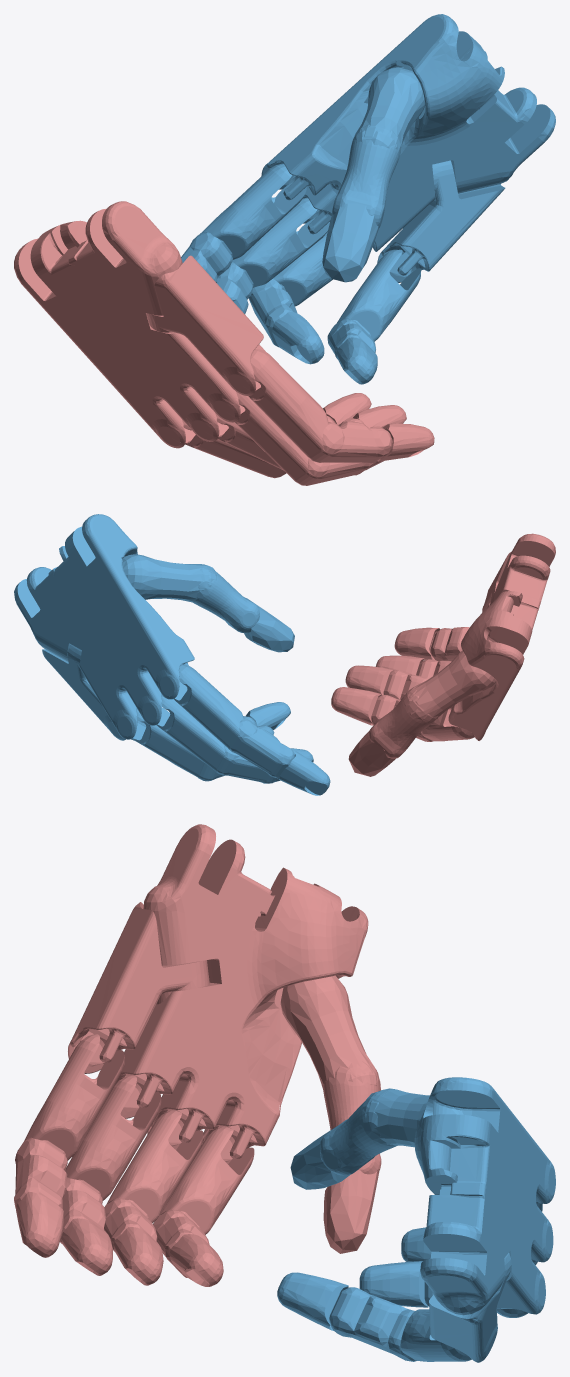
Rendered from Ipod_pc.glb.
3 views of the same model, one above another, from view 1: azimuth 30°, elevation 25°; view 2: azimuth 150°, elevation 25°; view 3: azimuth 270°, elevation 25° (orthographic). The views are drawn at different scales.
Visible parts, largest first — view 1: geom_1, geom_2; view 2: geom_1, geom_2; view 3: geom_2, geom_1.
Boxes of the visible parts, x1,y1,x2,y2 form: geom_1: (181, 14, 555, 384); geom_2: (14, 201, 434, 485); geom_1: (14, 514, 330, 795); geom_2: (331, 533, 555, 776); geom_2: (14, 824, 381, 1286); geom_1: (277, 1077, 555, 1362).
Bounding box in the file's own units: 0.2972 × 0.1473 × 0.206.
